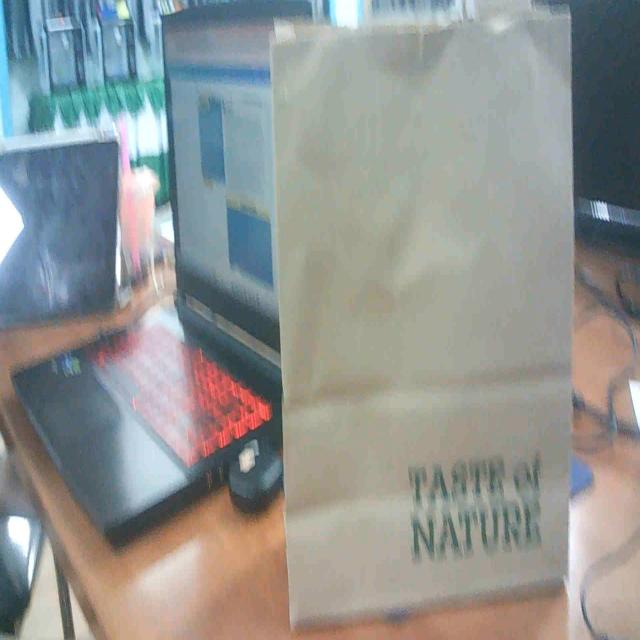bag: (247, 0, 592, 635)
